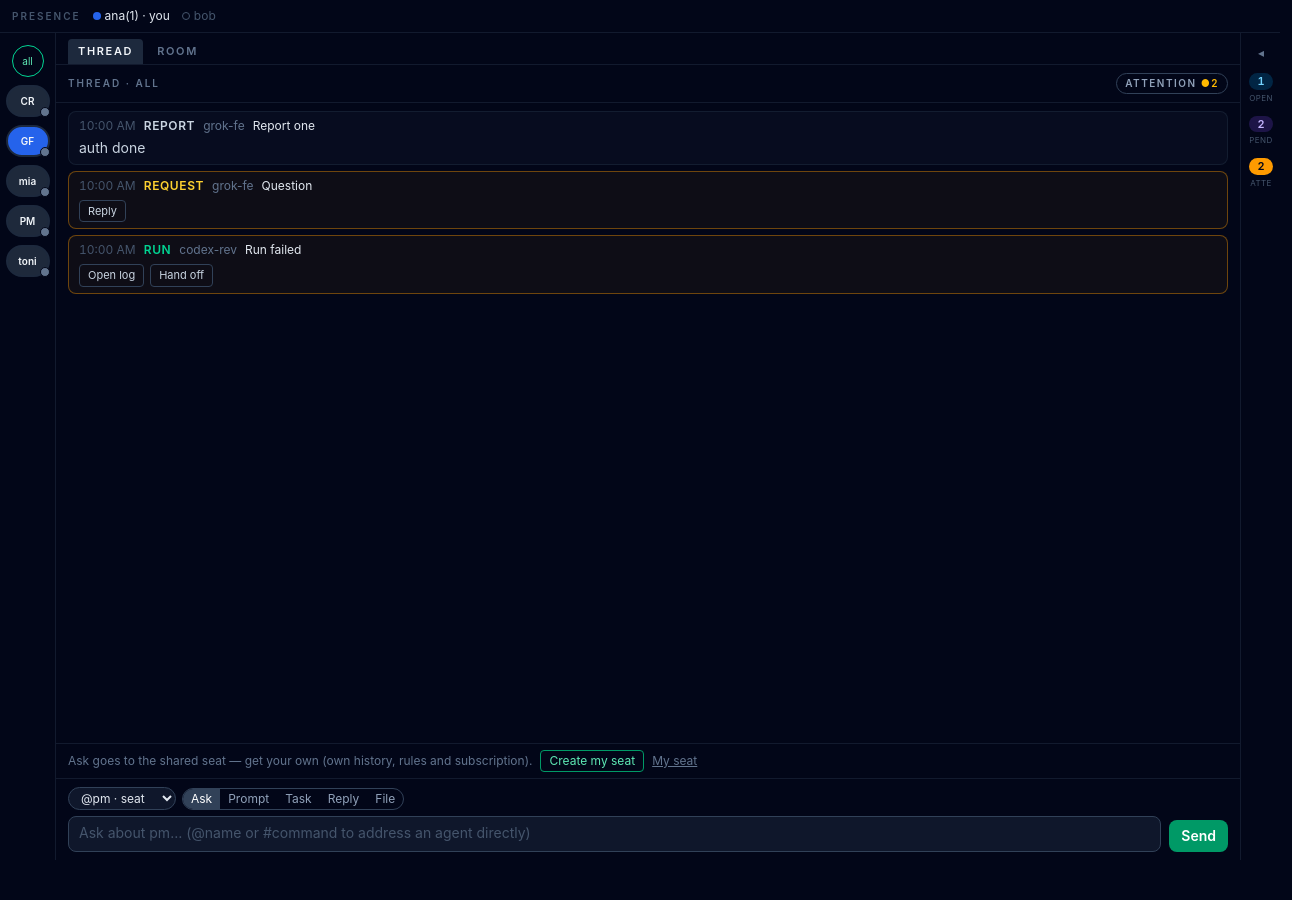
it: CommandCenter › /promote uses the latest run in the thread for that agent, and says so when there is none
Expected: the text "Report one" is shown, [253,118,315,132]
Select "@codex-rev" in the dropdown named "Target" at (122, 798), box [68,787,176,810]
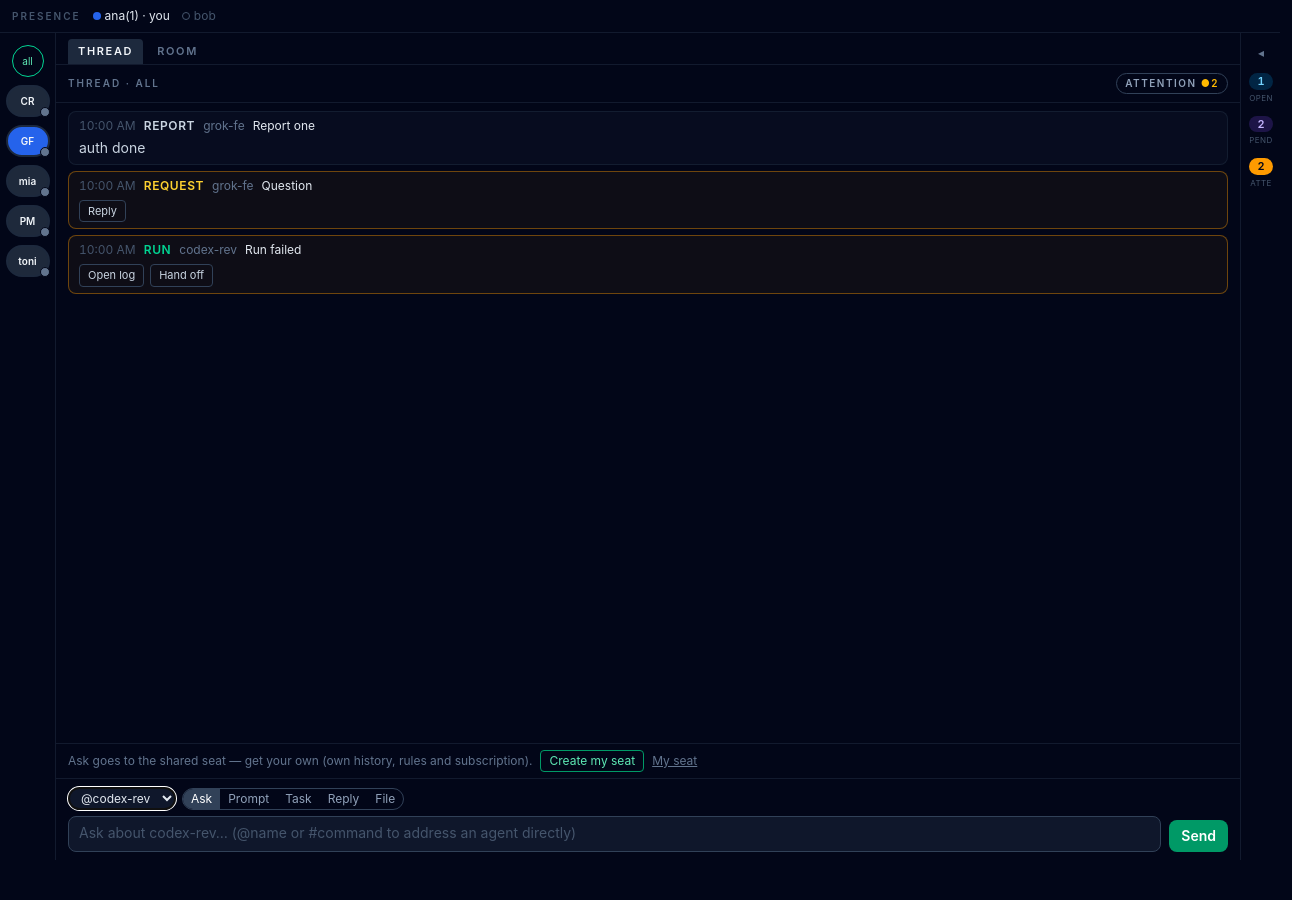
Type "/promote" into the text box named "Message".
click(615, 834); type("/promote")  # box [68,816,1161,852]
Then press Enter
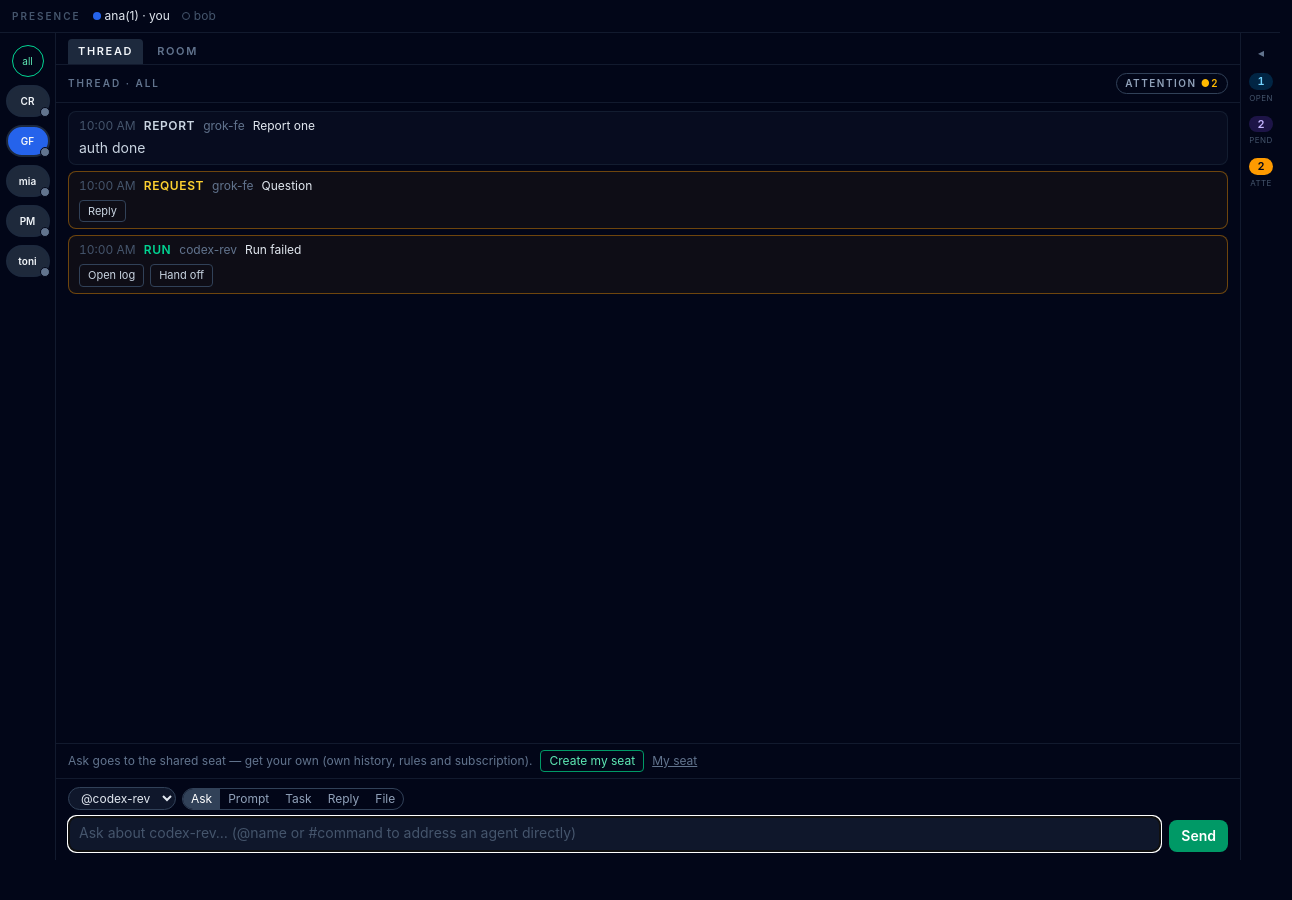
Select "@grok-fe" in the dropdown named "Target" at (122, 798), box [68,787,176,810]
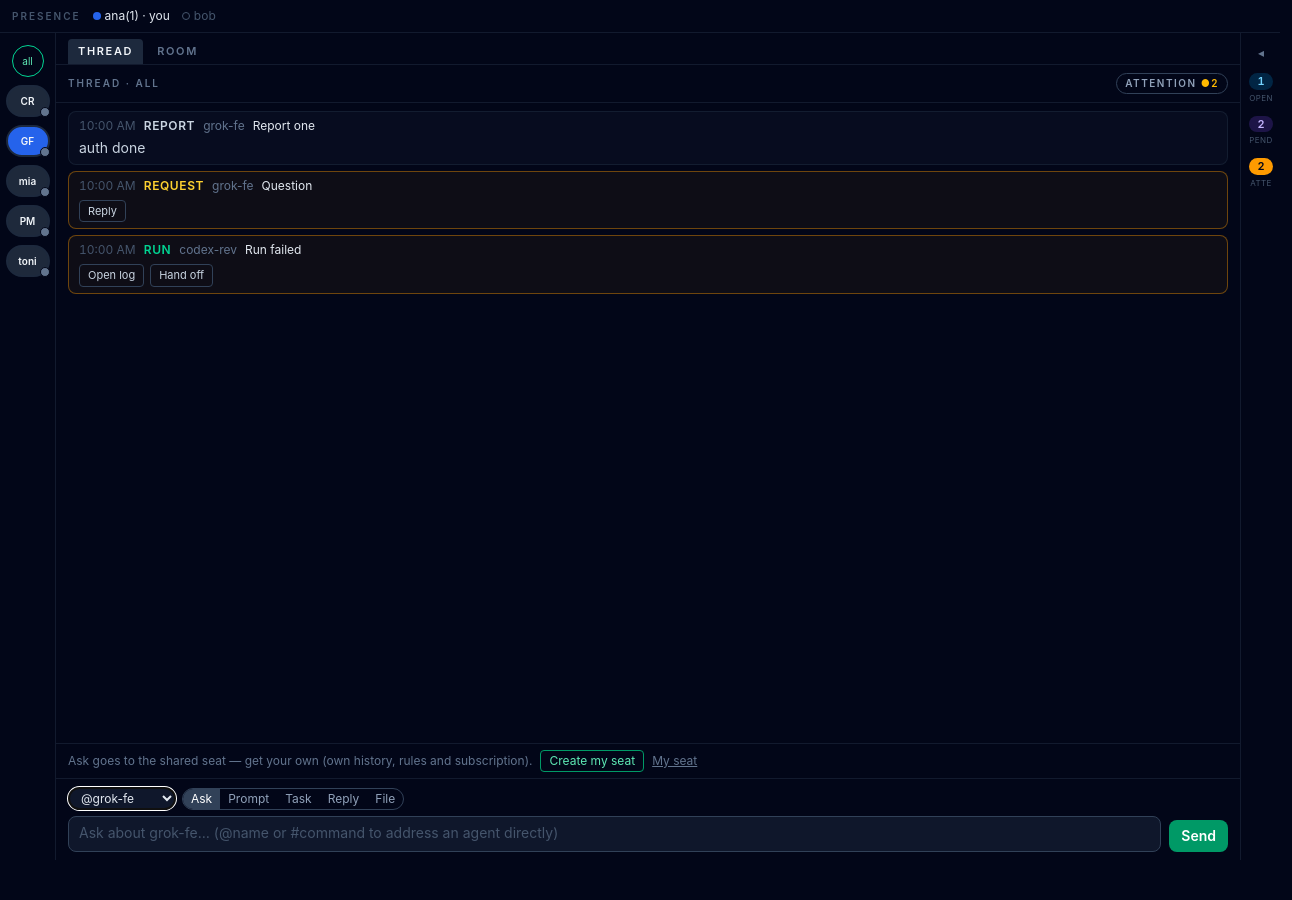
Type "/retry" into the text box named "Message".
click(615, 834); type("/retry")  # box [68,816,1161,852]
Then press Enter
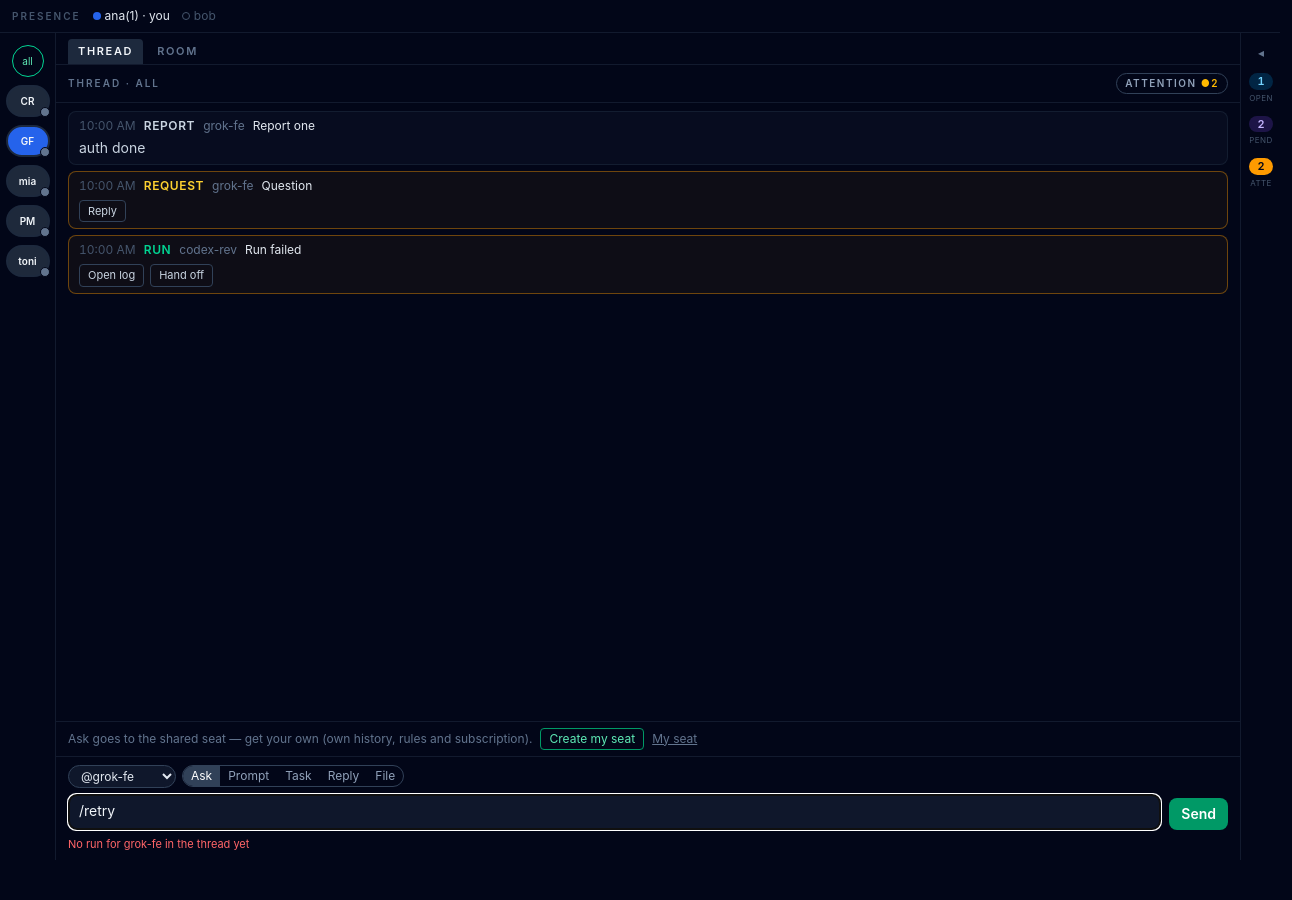
Expected: the message "No run for grok-fe in the thread yet" is shown, [68,836,249,850]
